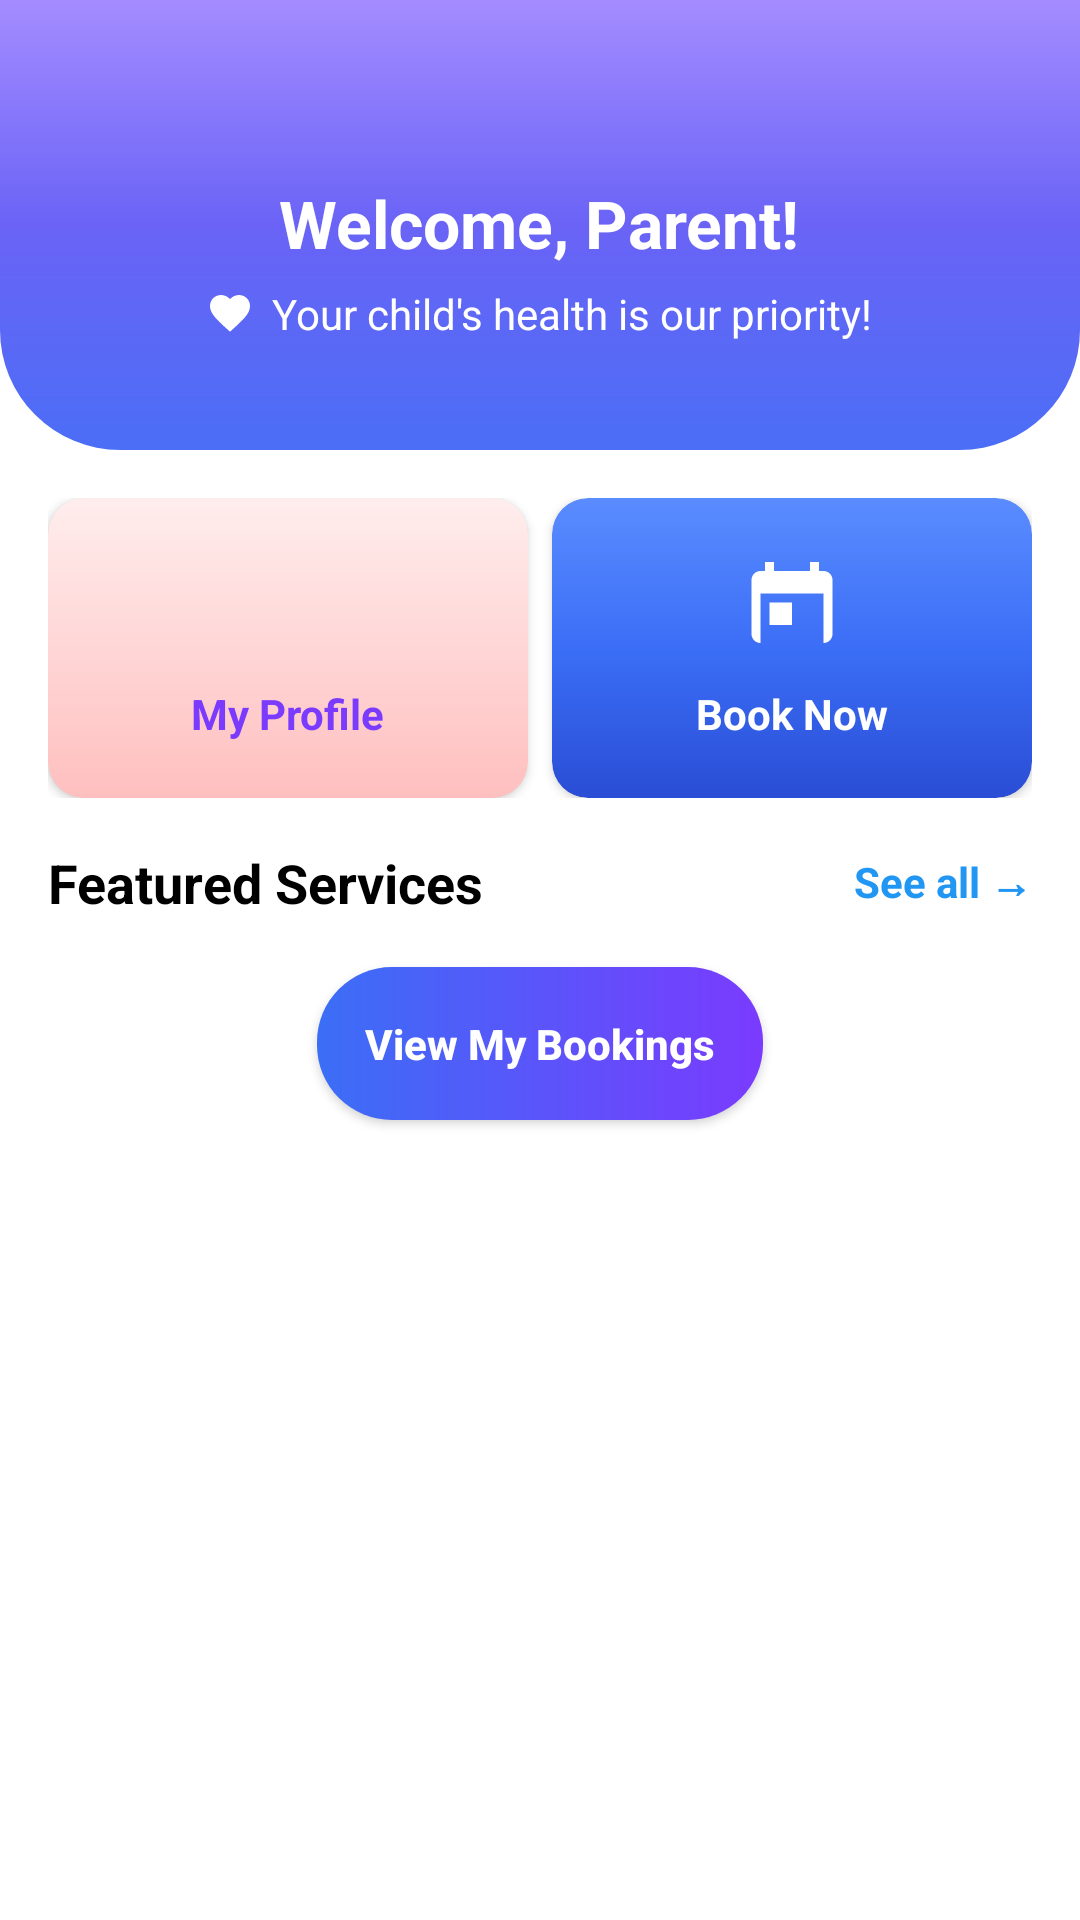

Screen size 1080px x 1920px. Icon name, then its box in pixels as rect(x1, y1, x2, y2):
Book appointment: rect(751, 562, 833, 643)
heart: rect(210, 295, 250, 332)
